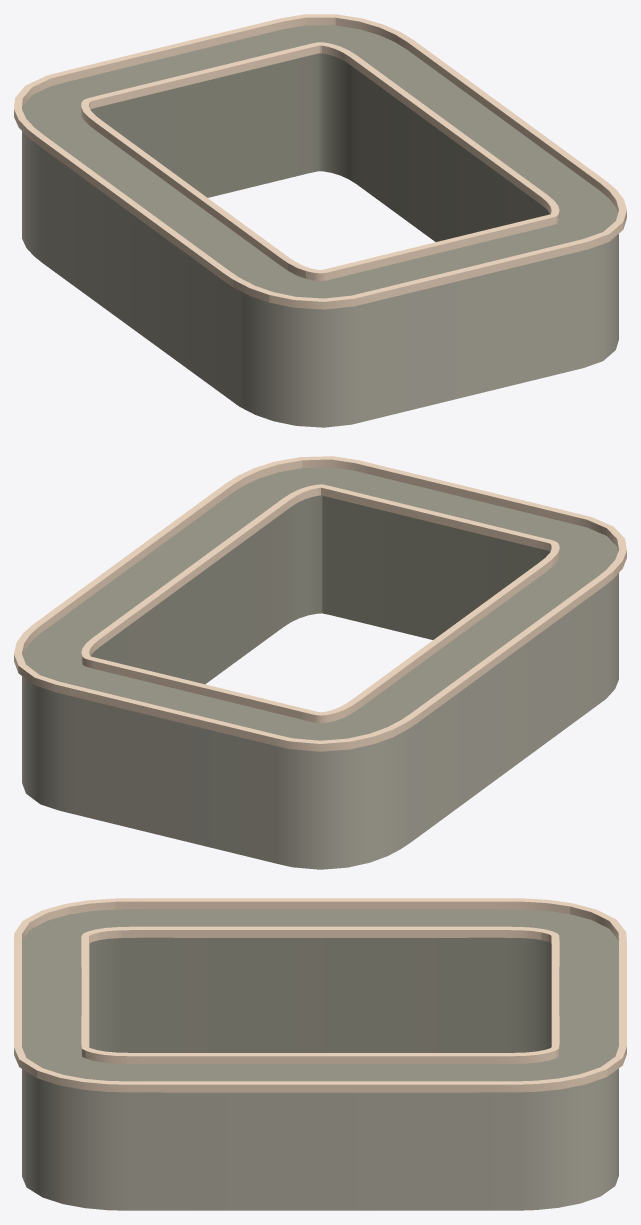
The model's file is ConveyorBelt.fbx.
The picture shows the model from 3 angles, top to bottom: view 1: azimuth 30°, elevation 25°; view 2: azimuth 150°, elevation 25°; view 3: azimuth 270°, elevation 25°; orthographic projection.
Visible parts, largest first — view 1: Lower, ConveyorBelt; view 2: Lower, ConveyorBelt; view 3: Lower, ConveyorBelt.
Part boxes in pixels (left/top/right/bottom): Lower: left=22, top=53, right=618, bottom=427; ConveyorBelt: left=14, top=14, right=626, bottom=309; Lower: left=22, top=495, right=618, bottom=869; ConveyorBelt: left=14, top=456, right=626, bottom=751; Lower: left=22, top=937, right=618, bottom=1210; ConveyorBelt: left=14, top=898, right=626, bottom=1092.
Bounding box in the file's own units: 995 × 322 × 1381.
